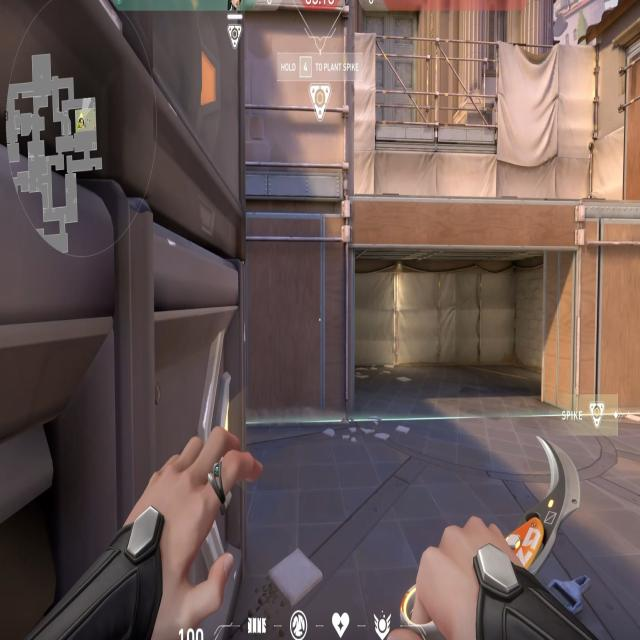A_Hell: (332, 186, 597, 430)
